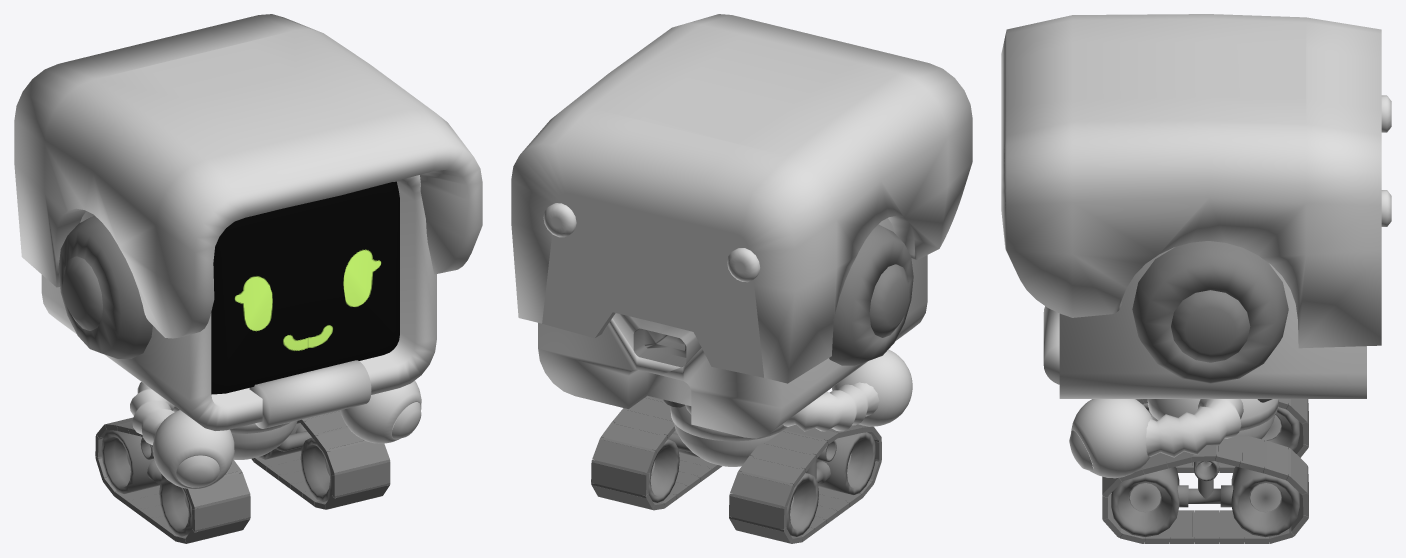
Rendered from lise.glb.
3 renders of one model, left to right at view 1: azimuth 30°, elevation 25°; view 2: azimuth 150°, elevation 25°; view 3: azimuth 270°, elevation 25°, orthographic. The views are drawn at different scales.
Parts seen in each view (by area): view 1: lise; view 2: lise; view 3: lise.
Boxes of the visible parts, box(x1,y1,x2,y2) form: lise: box(14, 14, 482, 543); lise: box(511, 14, 972, 543); lise: box(1001, 14, 1391, 543).
Bounding box in the file's own units: 1.19 × 1.4 × 1.17.
Materials: 3 (1 with a texture image).
